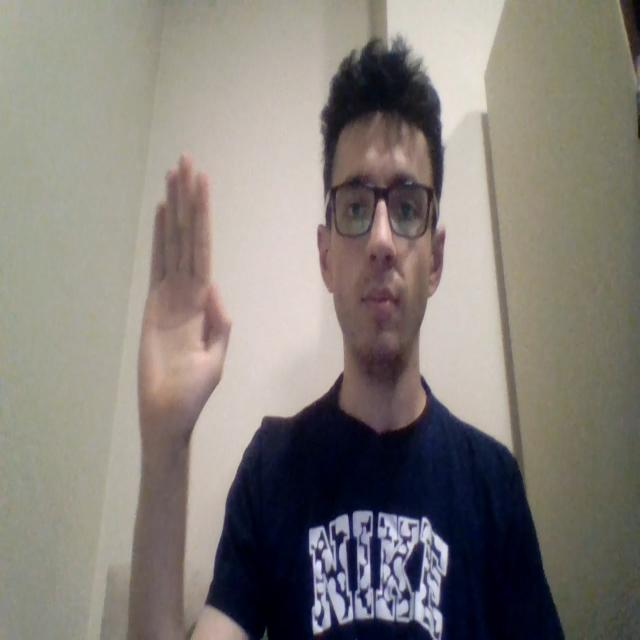hello: (136, 152, 232, 454)
